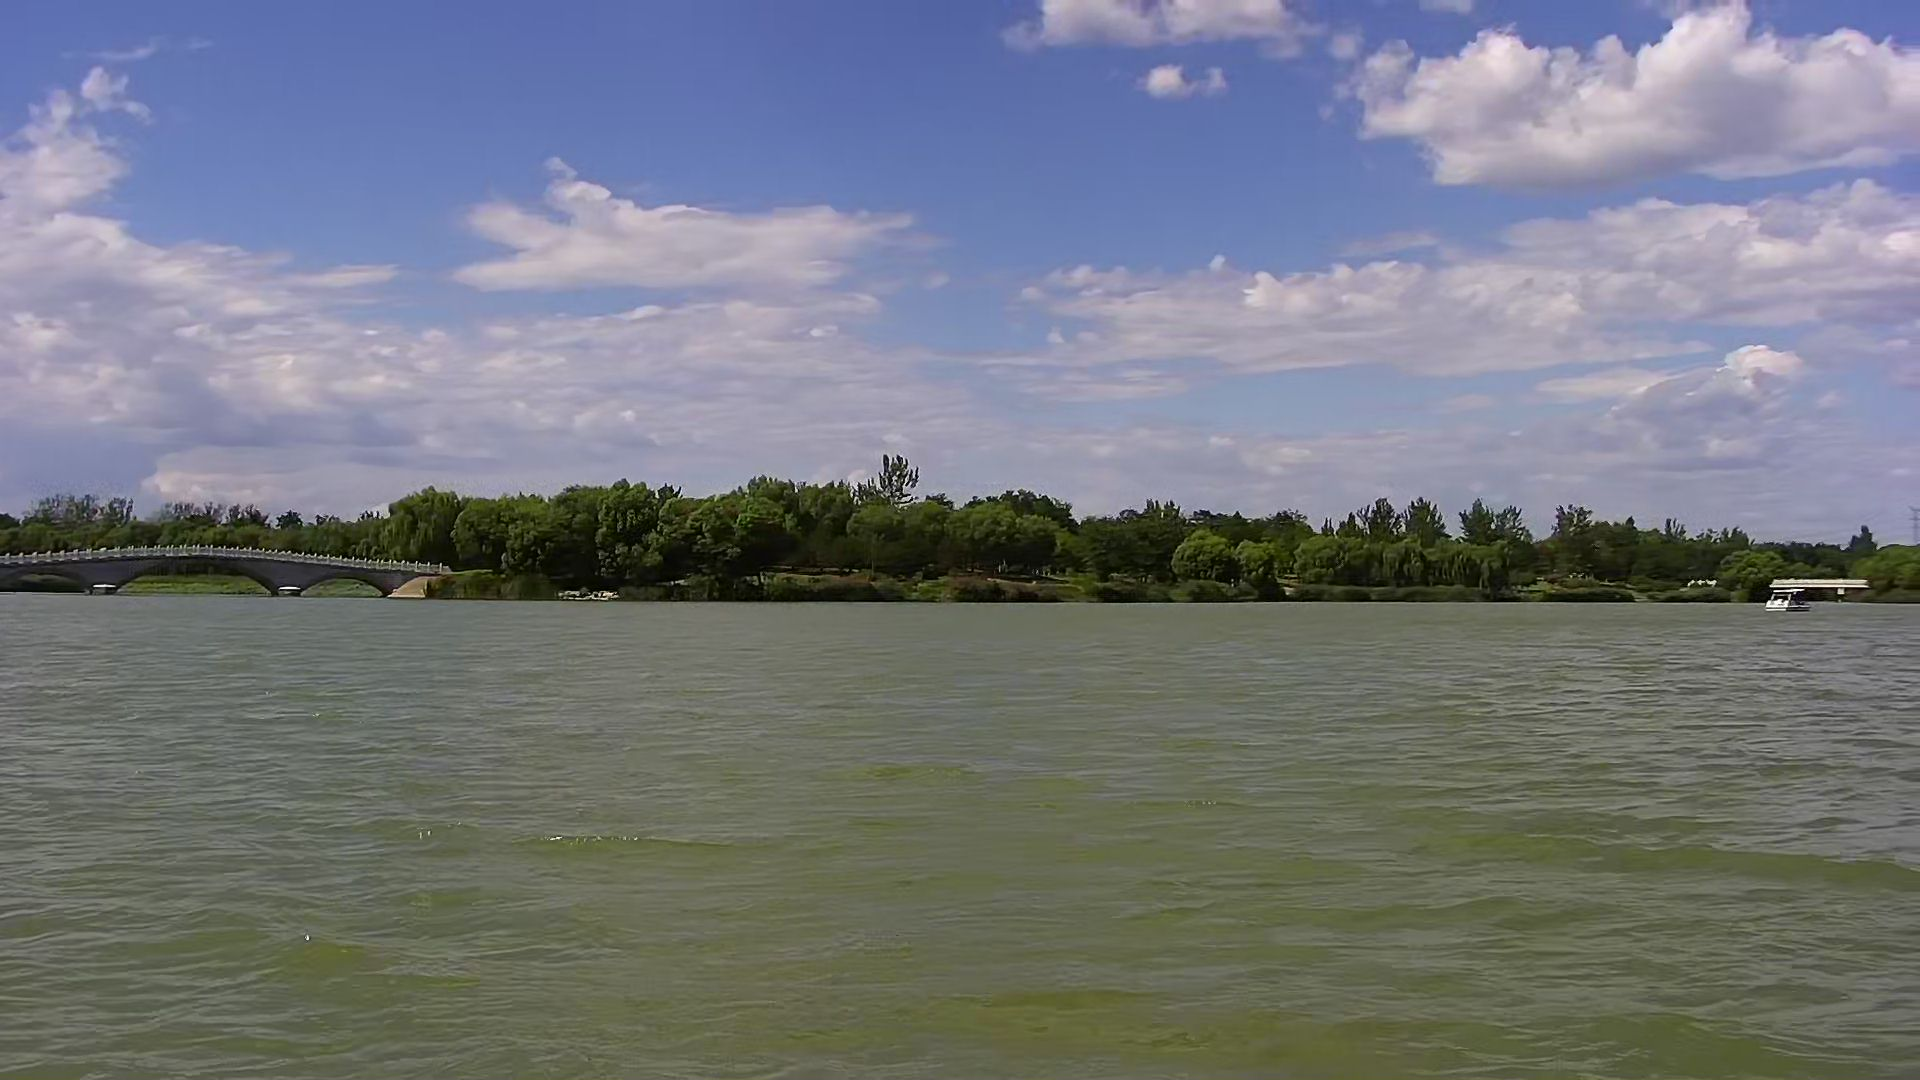boat: (1759, 578, 1813, 621)
bridge: (1, 533, 469, 611)
